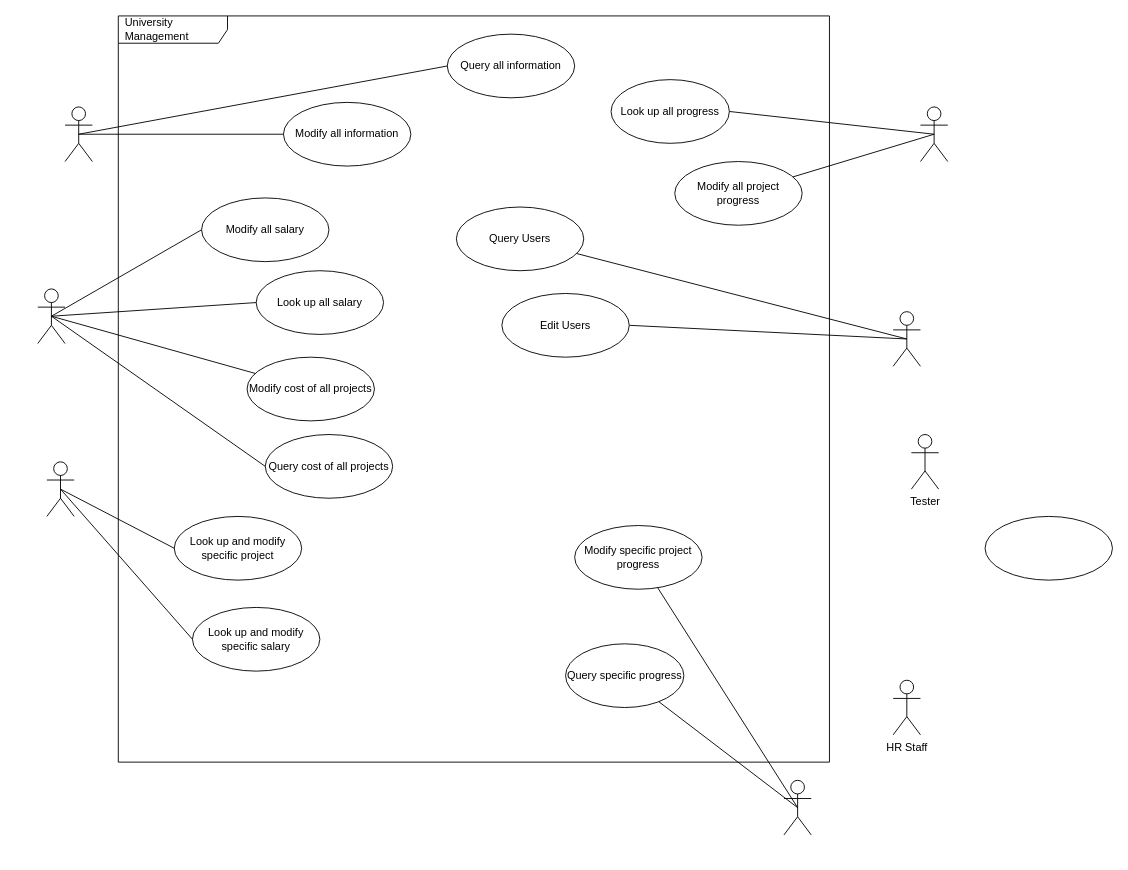
This 1128x870 diagram has some shape labels left out. Each missing label, with the box of its shape:
Boss: (64, 106, 92, 162)
Change performance of all users: (984, 516, 1112, 580)
Finance leader: (37, 288, 65, 344)
Finance Staff: (46, 461, 74, 516)
HR leader: (892, 311, 920, 366)
Programmer: (783, 779, 811, 835)
Tech leader: (920, 106, 948, 162)
